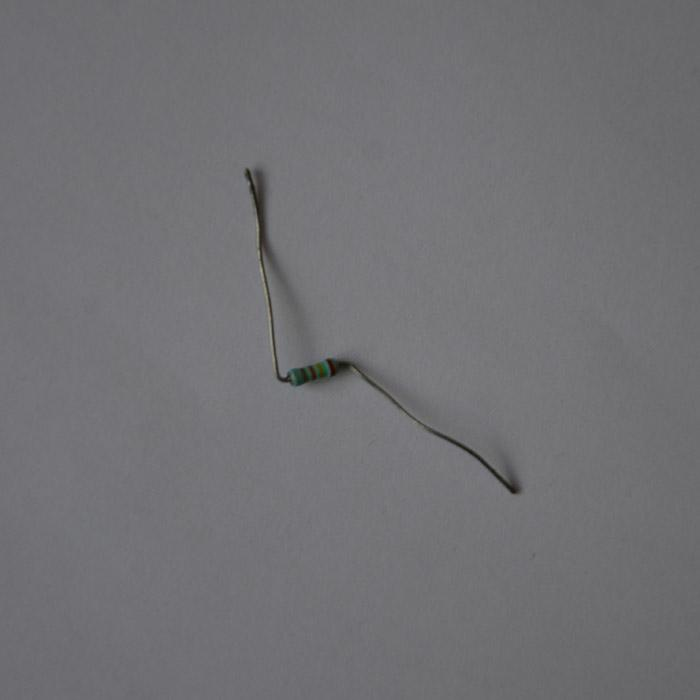resistor: (286, 357, 338, 386)
